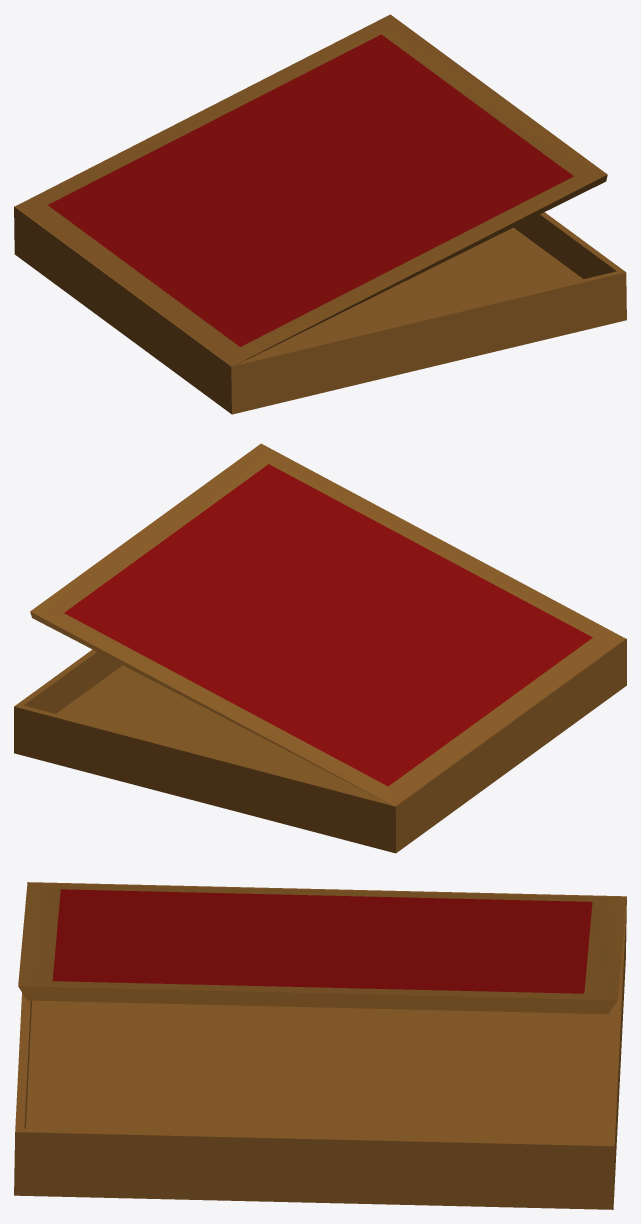
File: pizza_box.fbx
3 views of the same model, one above another, from view 1: azimuth 30°, elevation 25°; view 2: azimuth 150°, elevation 25°; view 3: azimuth 270°, elevation 25° (orthographic). The views are drawn at different scales.
Parts seen in each view (by area): view 1: trashes.001; view 2: trashes.001; view 3: trashes.001.
Part boxes in pixels (x1,y1,x2,y2): trashes.001: [14, 14, 626, 414]; trashes.001: [14, 443, 626, 853]; trashes.001: [14, 882, 626, 1209].
Size of the model in its own units: 57.71 by 21.87 by 57.77.
